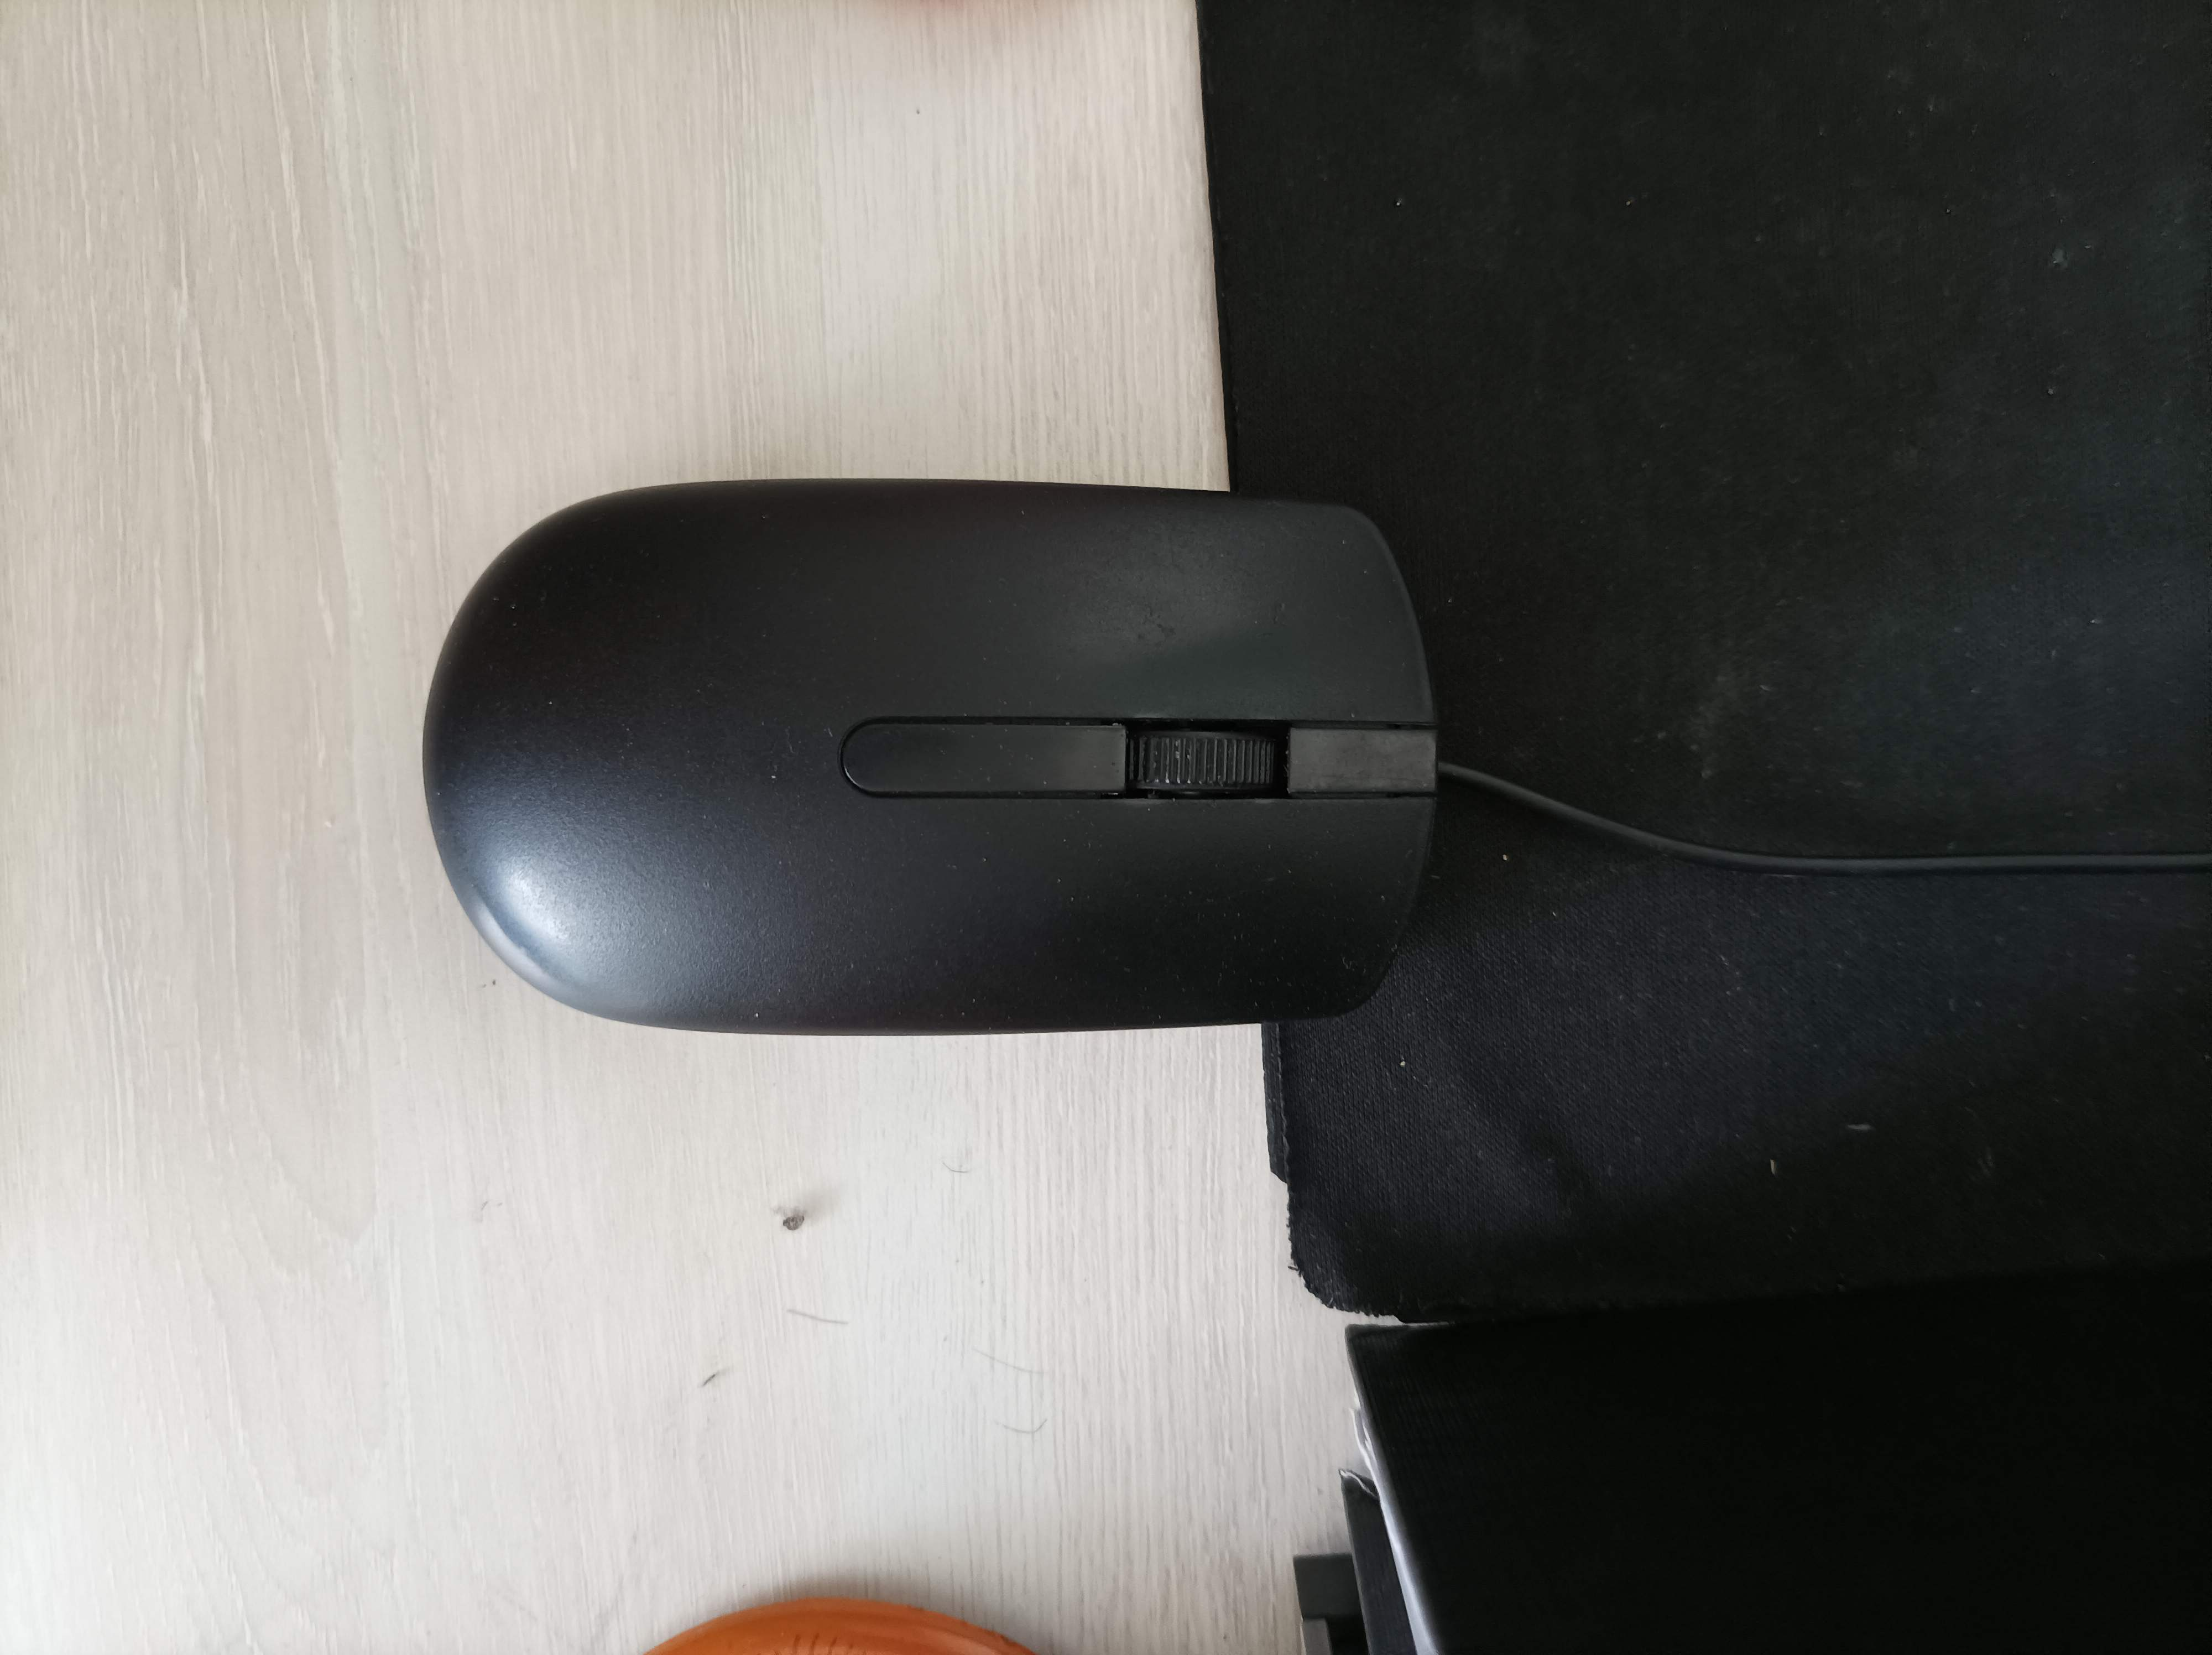mouse: (412, 455, 1444, 1052)
